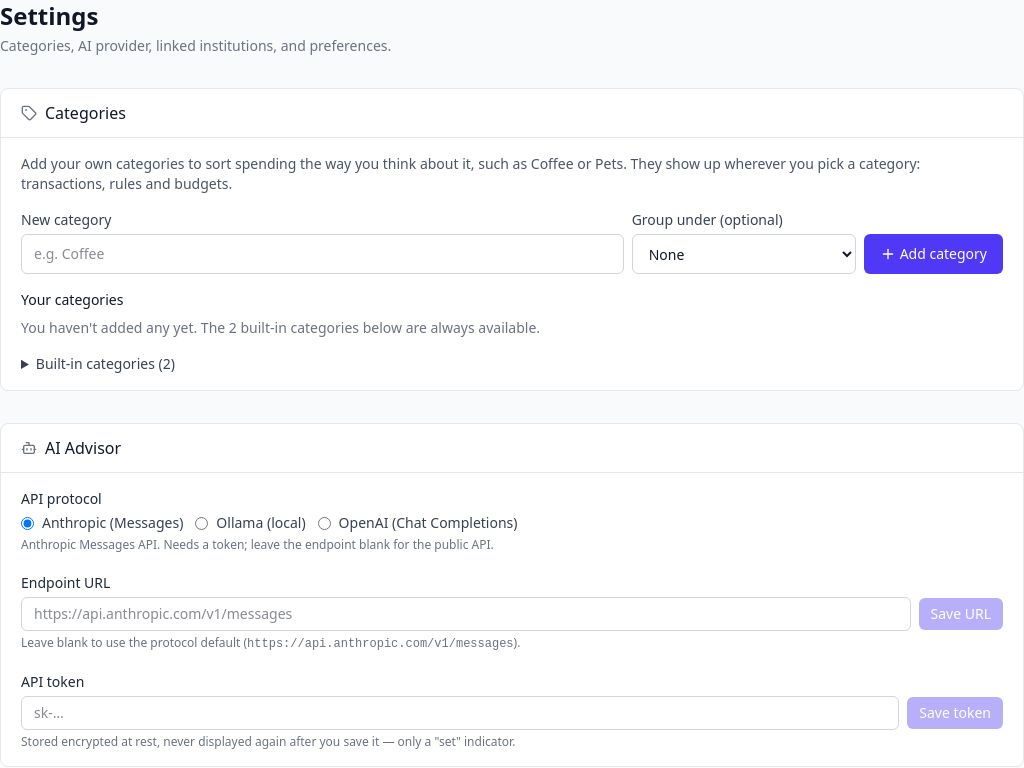
SettingsPage categories › shows a duplicate name inline and keeps the typed name
Expected: the text "You haven't added any yet" is shown, [21,318,229,337]
Type "groceries" into the field labelled "New category" at coordinates (322, 254), box [21,234,624,274]
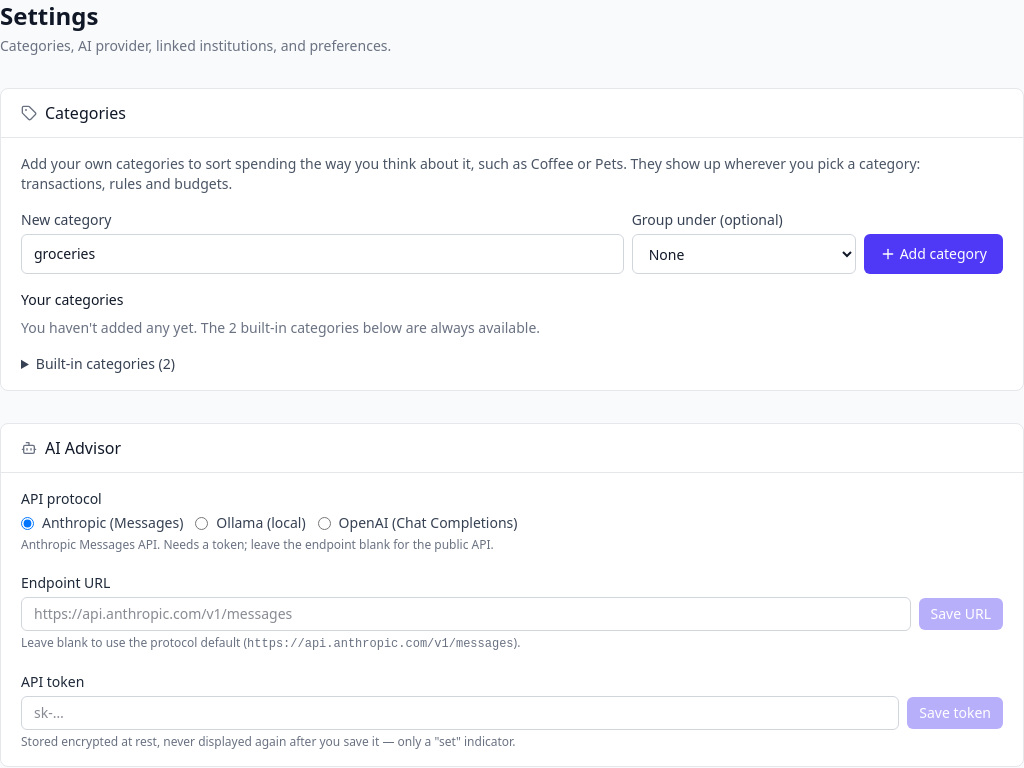
Click the button "Add category" at coordinates (933, 254), box [864,234,1003,274]
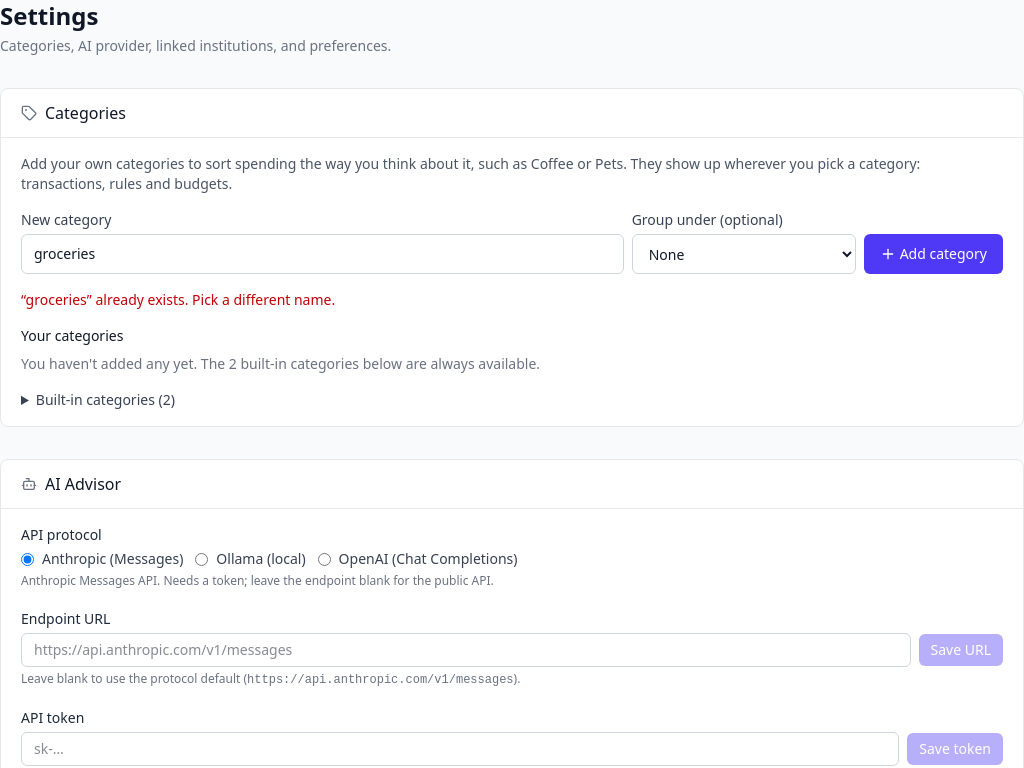
Expected: the message reads "“groceries” already exists. Pick a different name.", [21,290,335,309]
